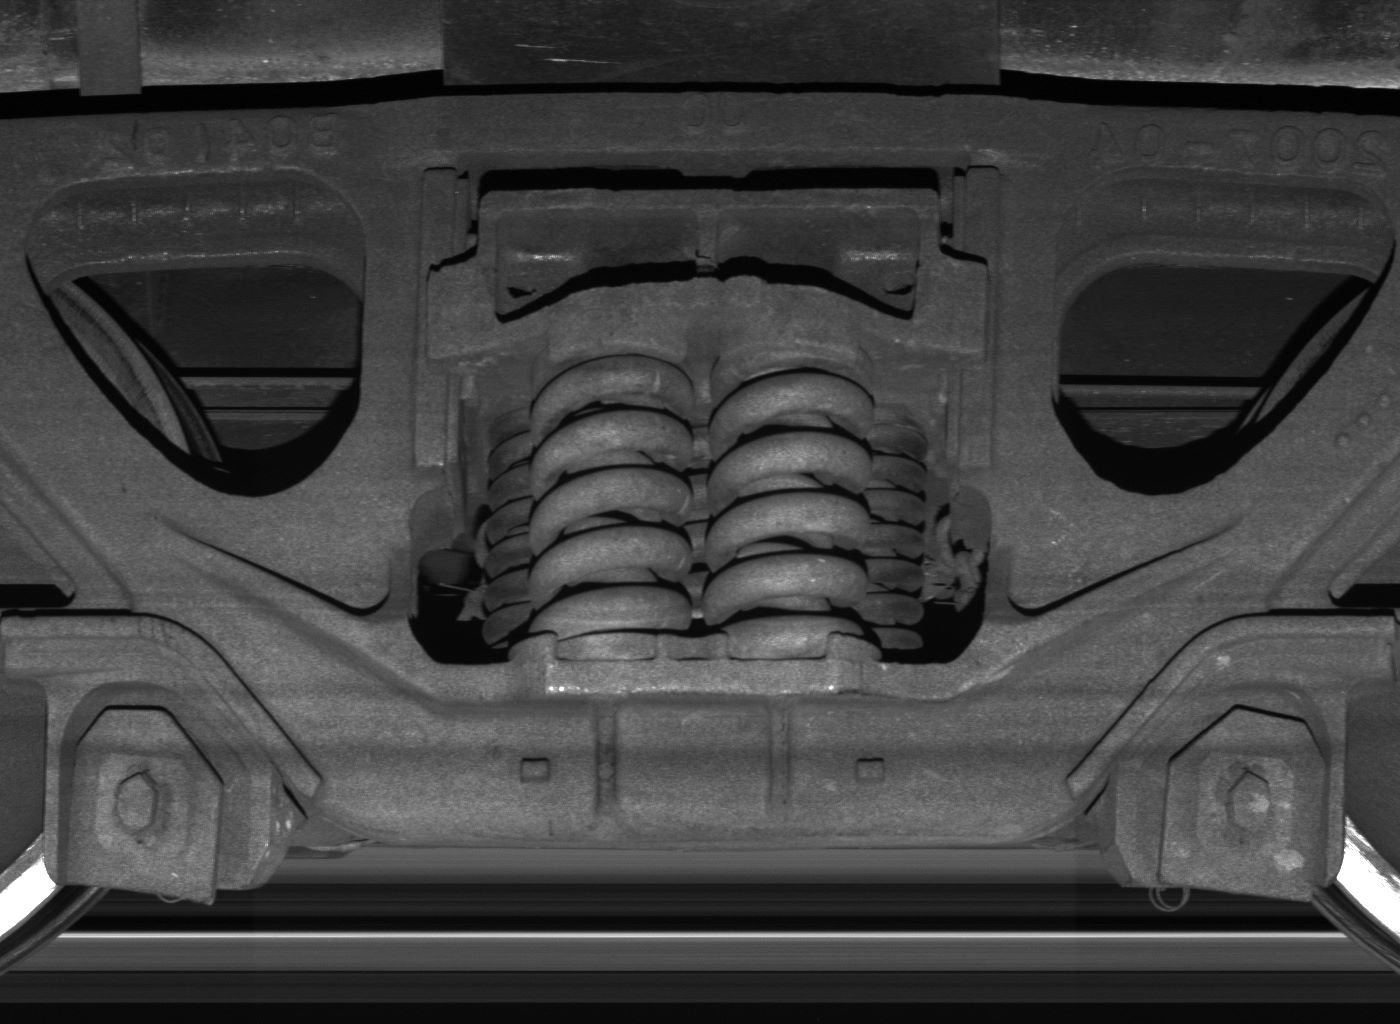locking plate: (46, 682, 270, 906), (1138, 680, 1343, 904)
